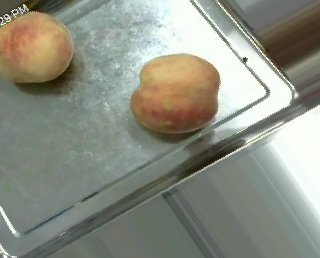Peach: (131, 52, 220, 134), (0, 9, 73, 84)
